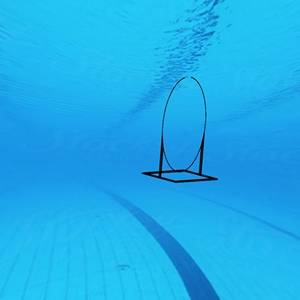circle: (140, 75, 221, 187)
